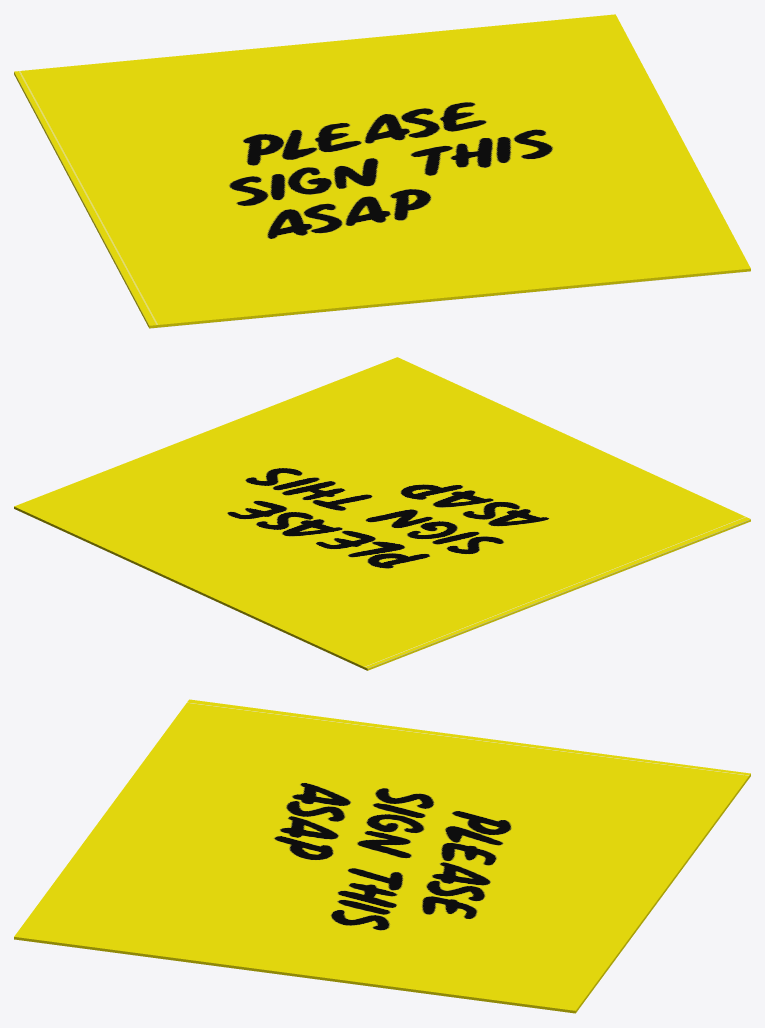
File: IncidentReport.fbx
The picture shows the model from 3 angles, top to bottom: view 1: azimuth 30°, elevation 25°; view 2: azimuth 150°, elevation 25°; view 3: azimuth 270°, elevation 25°; orthographic projection. The views are drawn at different scales.
Parts seen in each view (by area): view 1: Post it; view 2: Post it; view 3: Post it.
Part boxes in pixels (x1,y1,x2,y2): Post it: [14, 14, 750, 328]; Post it: [14, 357, 750, 670]; Post it: [14, 699, 750, 1013].
Size of what is drawn, in the model's own units: 5.62 by 0.0225 by 5.62.
Materials: 1 (1 with a texture image).
